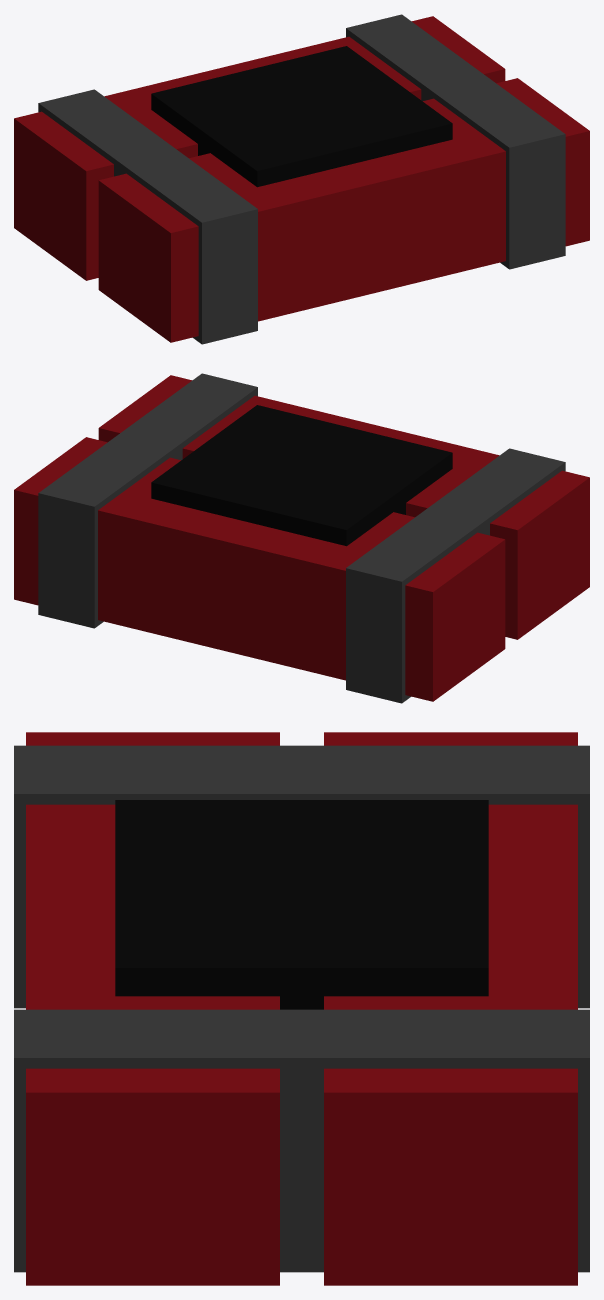
File: Bomb.fbx
3 renders of one model, top to bottom at view 1: azimuth 30°, elevation 25°; view 2: azimuth 150°, elevation 25°; view 3: azimuth 270°, elevation 25°, orthographic. The views are drawn at different scales.
Parts seen in each view (by area): view 1: Bomb; view 2: Bomb; view 3: Bomb.
Part boxes in pixels (x1=…): Bomb: x1=14, y1=14, x2=589, y2=344; Bomb: x1=14, y1=373, x2=589, y2=703; Bomb: x1=14, y1=732, x2=589, y2=1285.
Bounding box in the file's own units: 150 × 45.08 × 101.
